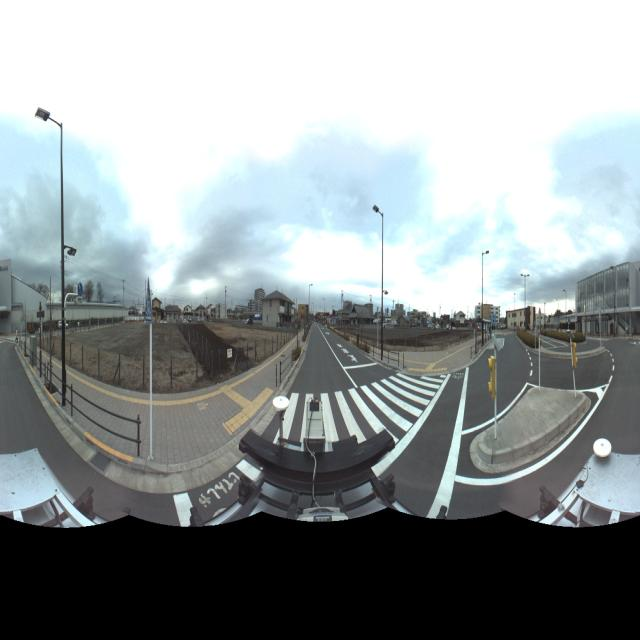b_1: (576, 255, 640, 346), (264, 281, 296, 344), (472, 299, 506, 339), (508, 300, 538, 340), (240, 290, 267, 334), (345, 293, 381, 325), (151, 294, 166, 324), (166, 300, 181, 328)
